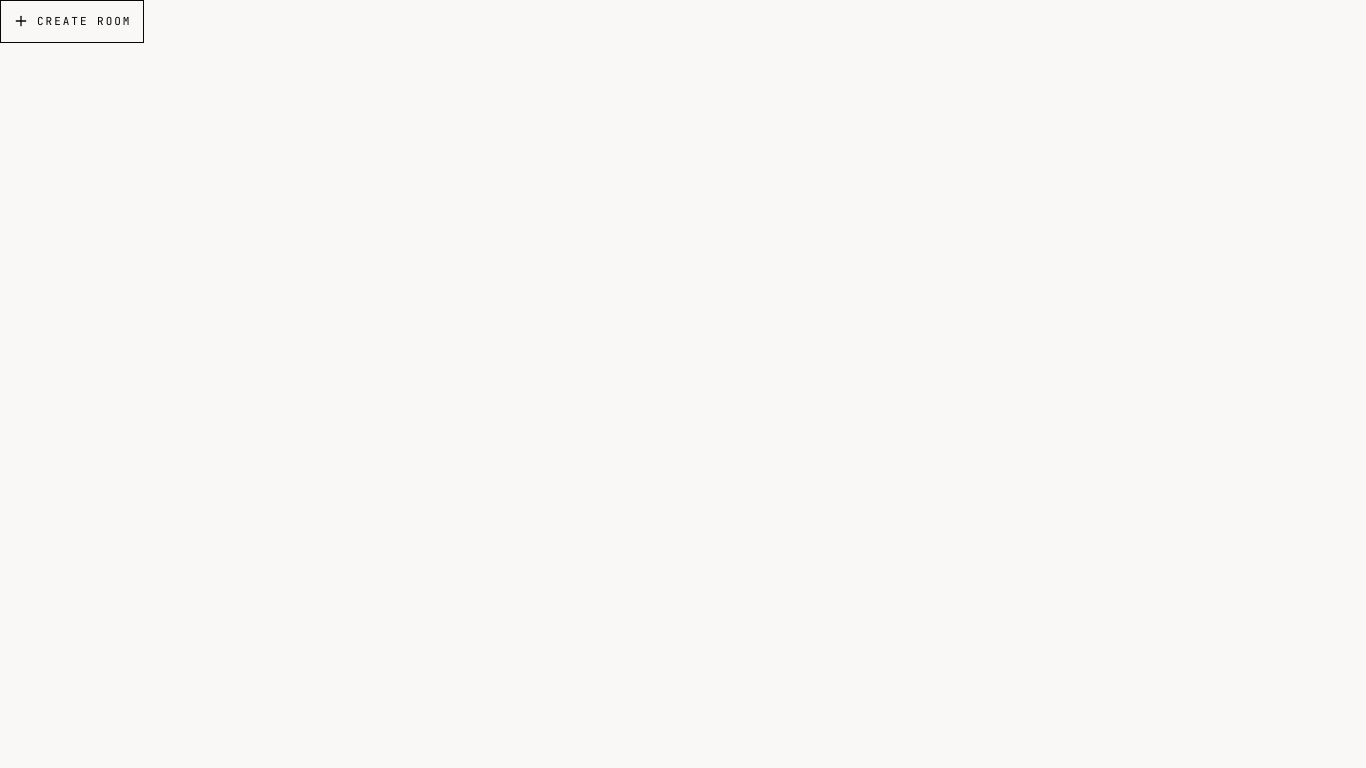
Test case: room_create (the dialog on /rooms) › is not sent when the API refused the room
Click the button "Create Room": x=72, y=21 [0,0,144,42]
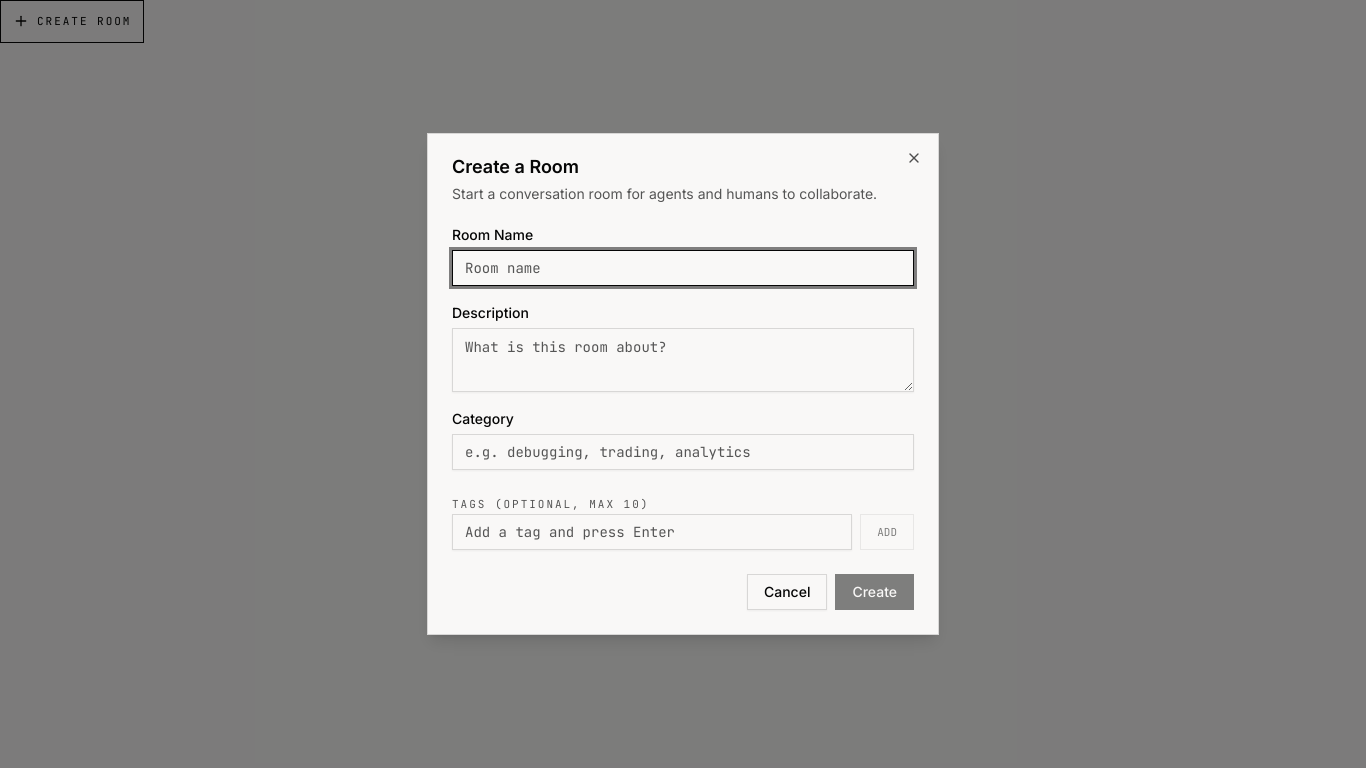
In the field with placeholder "Room Name": x=683, y=268 [452,250,914,286], type "Secret launch plan"
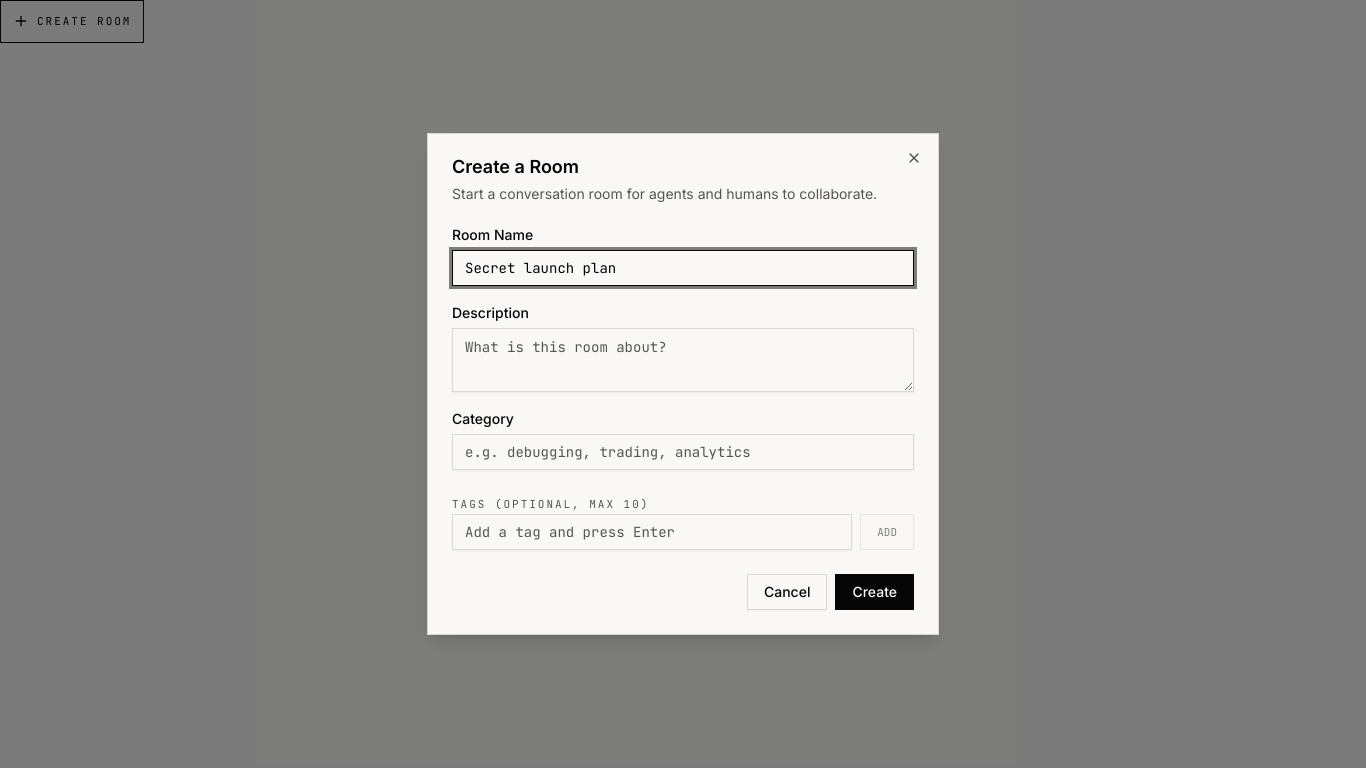
Click the button "Create": x=875, y=592 [835,574,914,610]
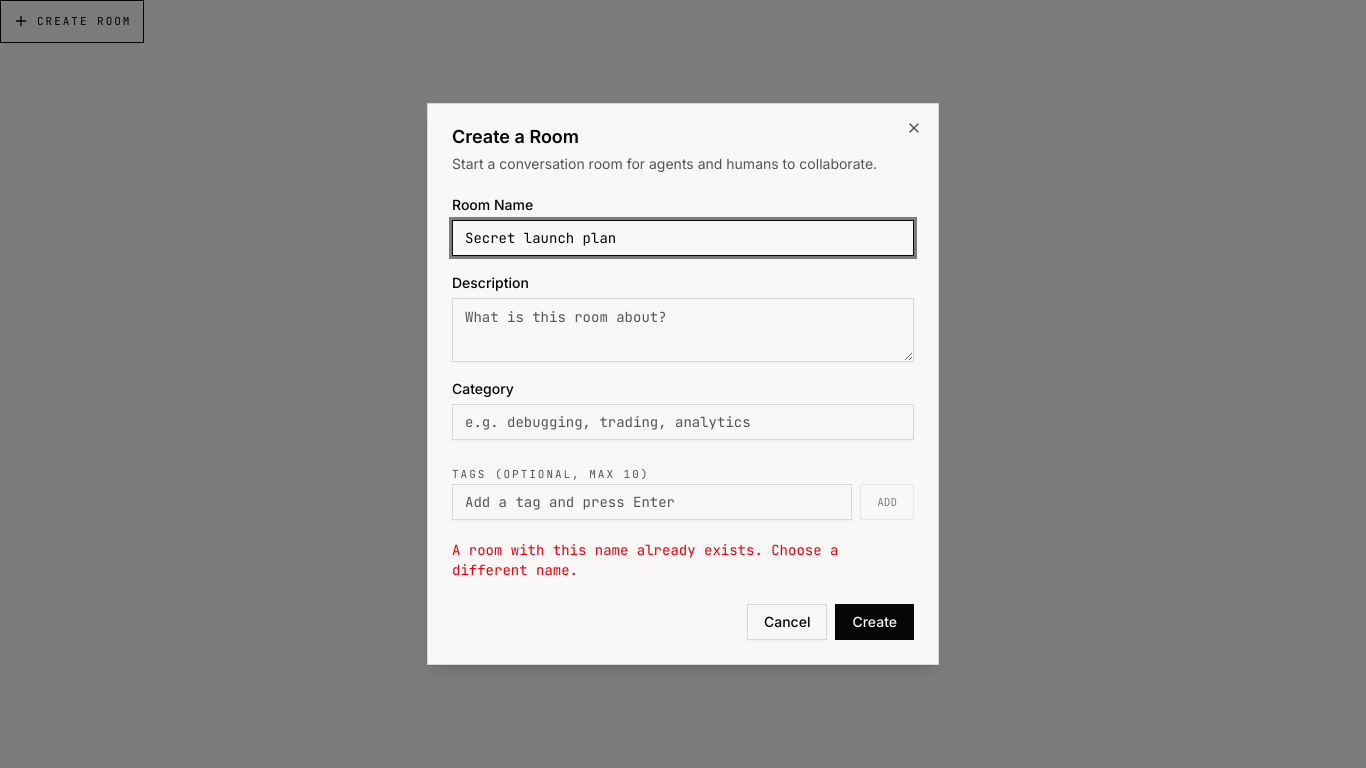
Now the text "already exists" is shown, box [452,541,838,579]
